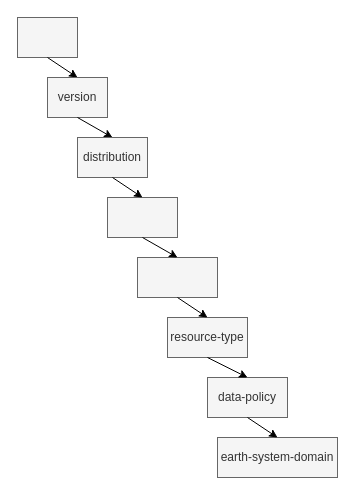
Image size: 355x495. Some labels were removed from this diagram. Each missing label, with the centre of its shape:
"centre-id" belongs at (177,277).
"country" belongs at (142,217).
"scope" belongs at (47,37).
